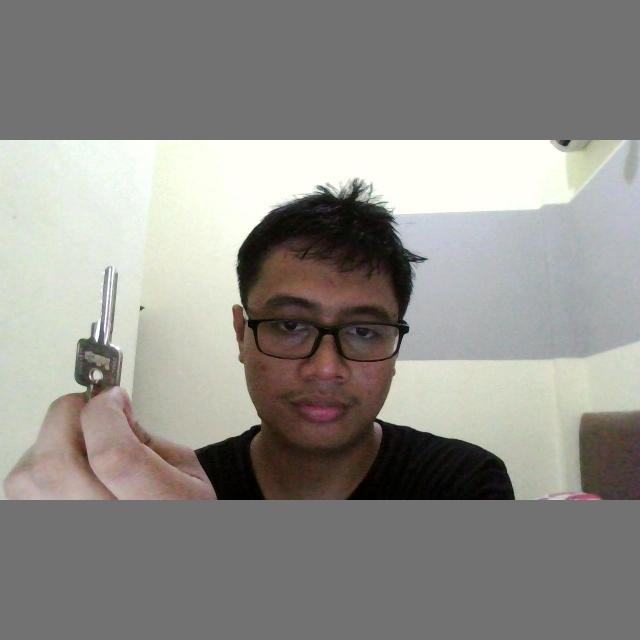Keys: (76, 266, 128, 394)
